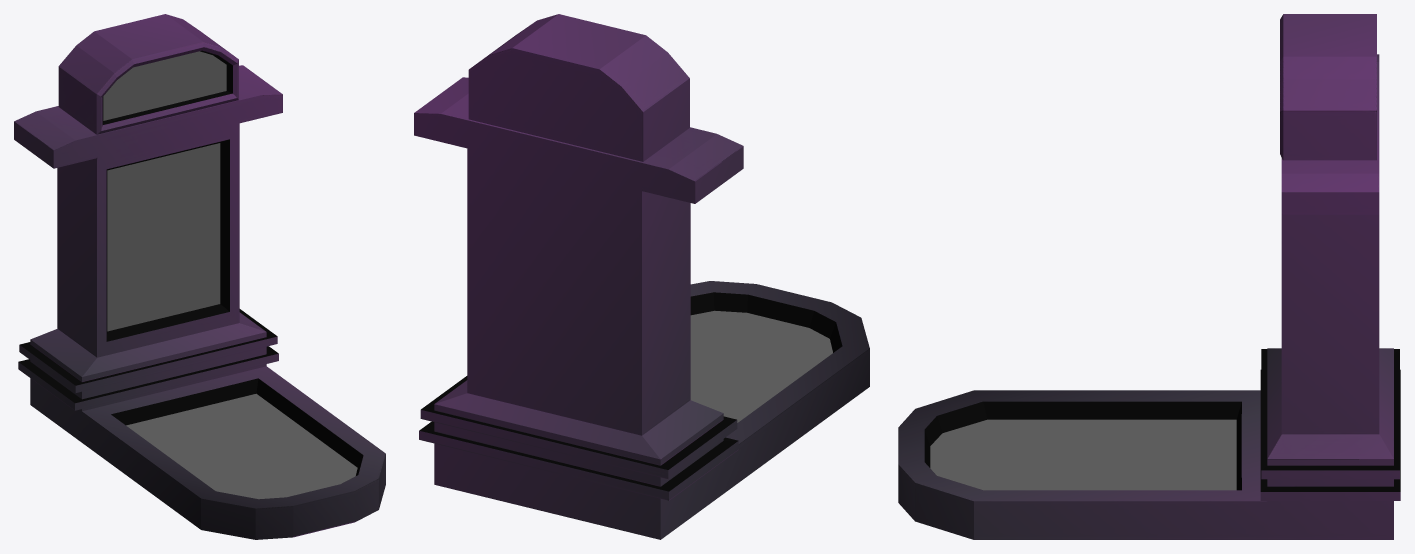
3 views of the same model, side by side, from view 1: azimuth 30°, elevation 25°; view 2: azimuth 150°, elevation 25°; view 3: azimuth 270°, elevation 25° (orthographic). The views are drawn at different scales.
Parts seen in each view (by area): view 1: grave2.001; view 2: grave2.001; view 3: grave2.001.
Boxes of the visible parts, x1,y1,x2,y2 form: grave2.001: (14, 14, 385, 539); grave2.001: (414, 14, 869, 539); grave2.001: (898, 14, 1400, 539).
Bounding box in the file's own units: 322 × 489 × 496.
Materials: 3 (1 with a texture image).
